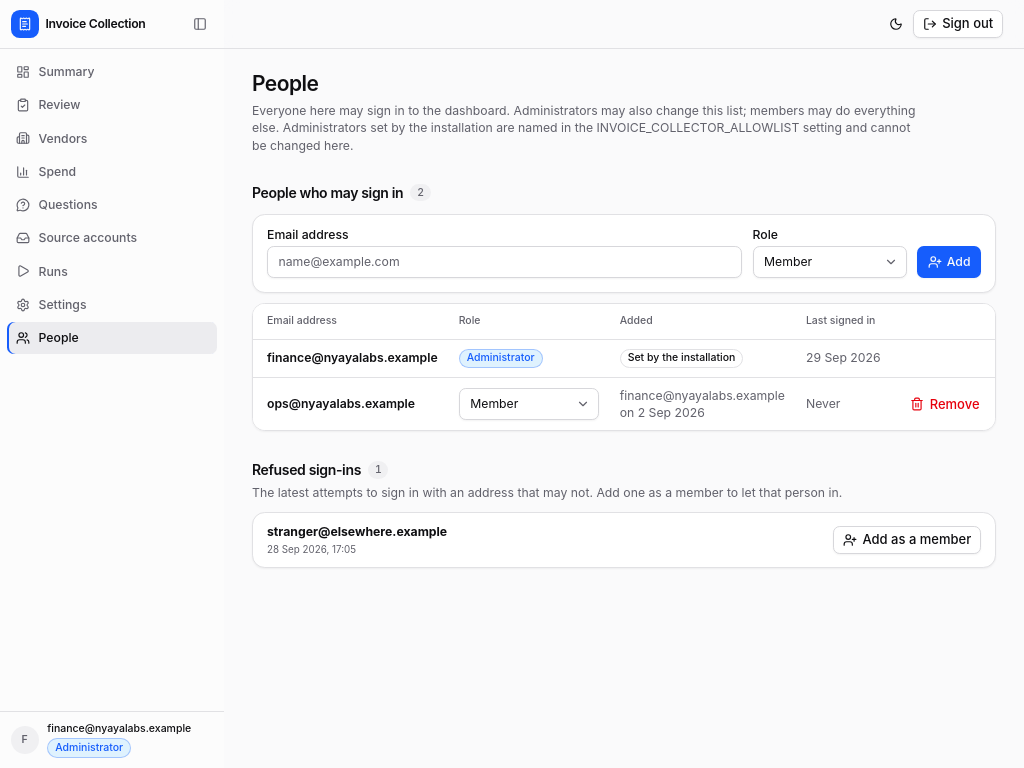
Scenario: a reason the server gives for refusing an addition is shown
This screenshot has width=1024, height=768.
Expected: the heading "People" is shown, [252,71,318,96]
Step 1. Type "ops" into the field labelled "Email address" → (504, 262), box [267,246,742,278]
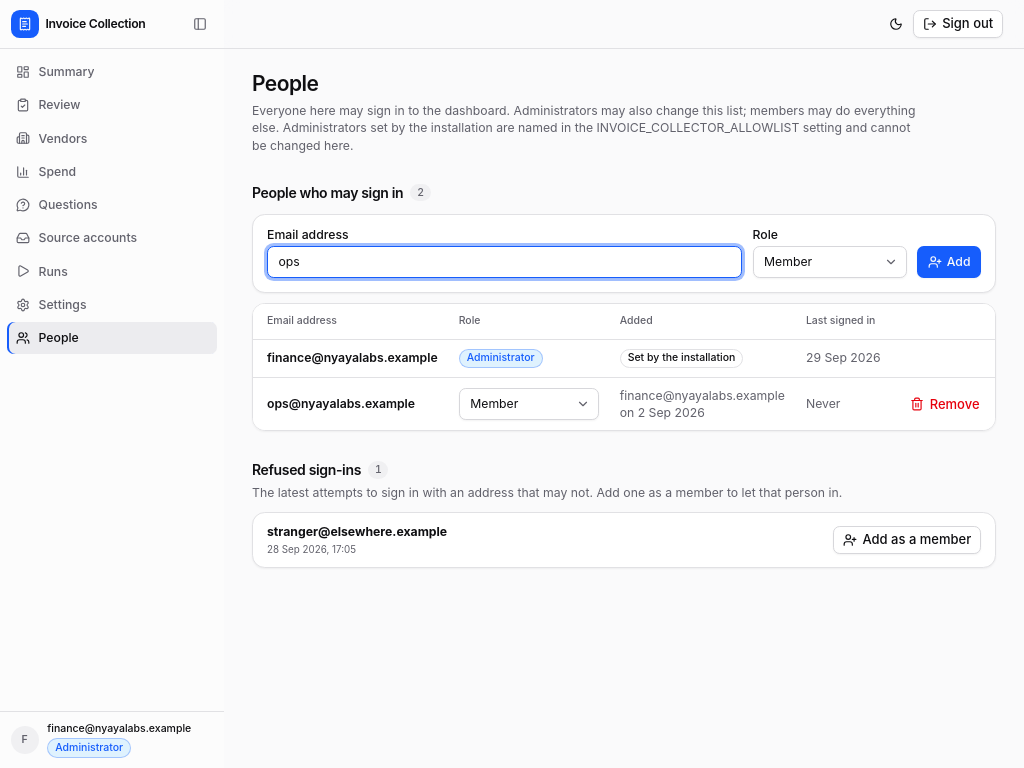
Step 2. Click the button "Add" → click(949, 262), box [917,246,981,278]
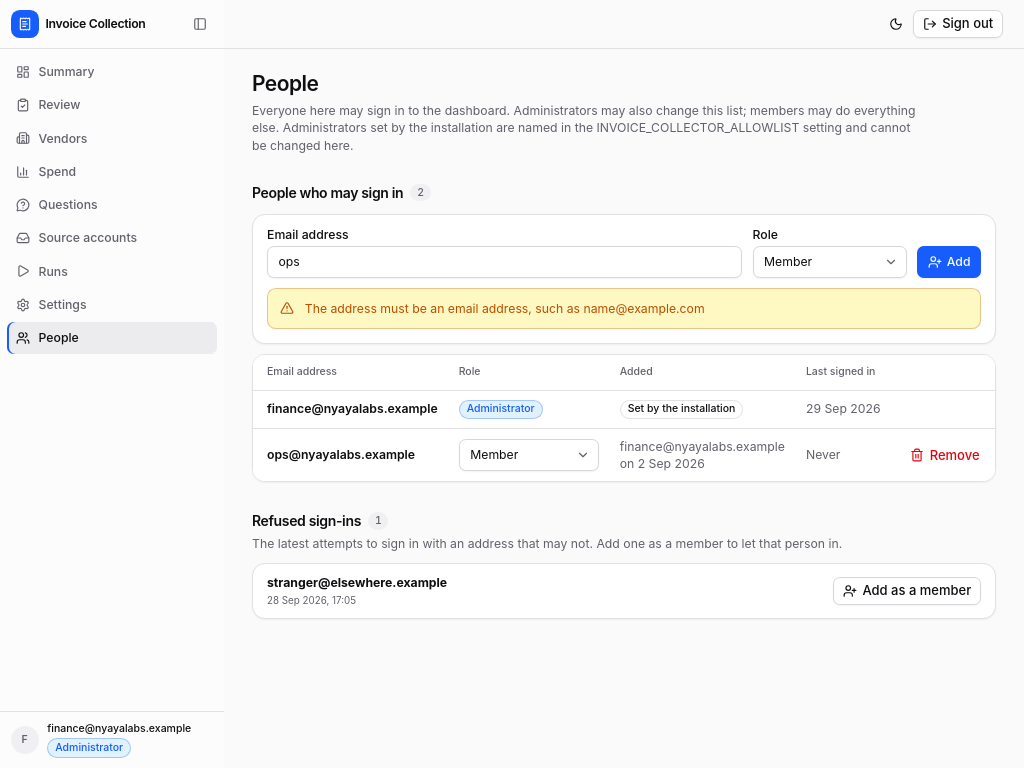
Now the message reads "The address must be an email address, such as name@example.com", box [305,300,705,316]
